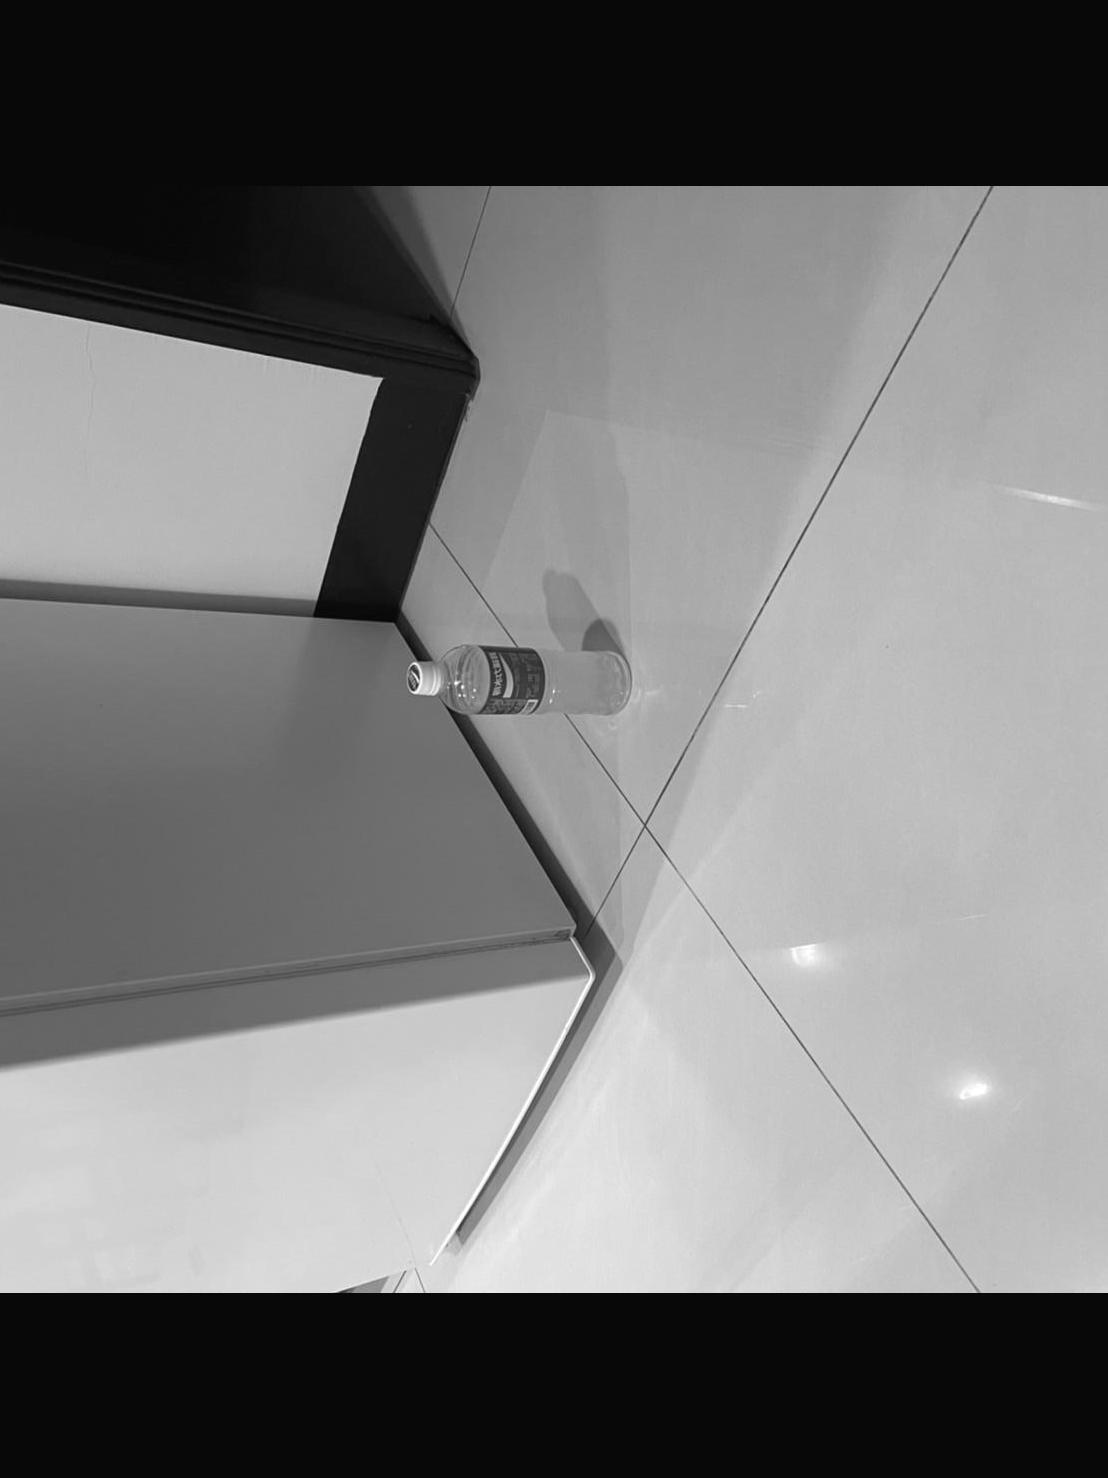bottle: (395, 632, 645, 720)
